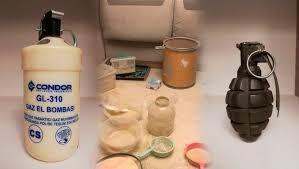Grenade: (20, 9, 81, 162), (223, 39, 280, 143)
